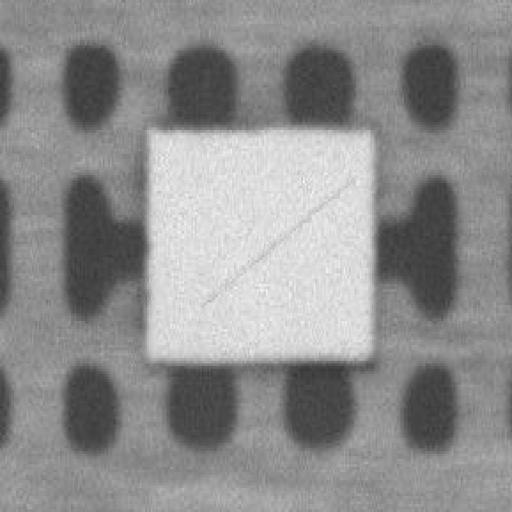DIE_CRACK: (299, 116, 512, 202)
